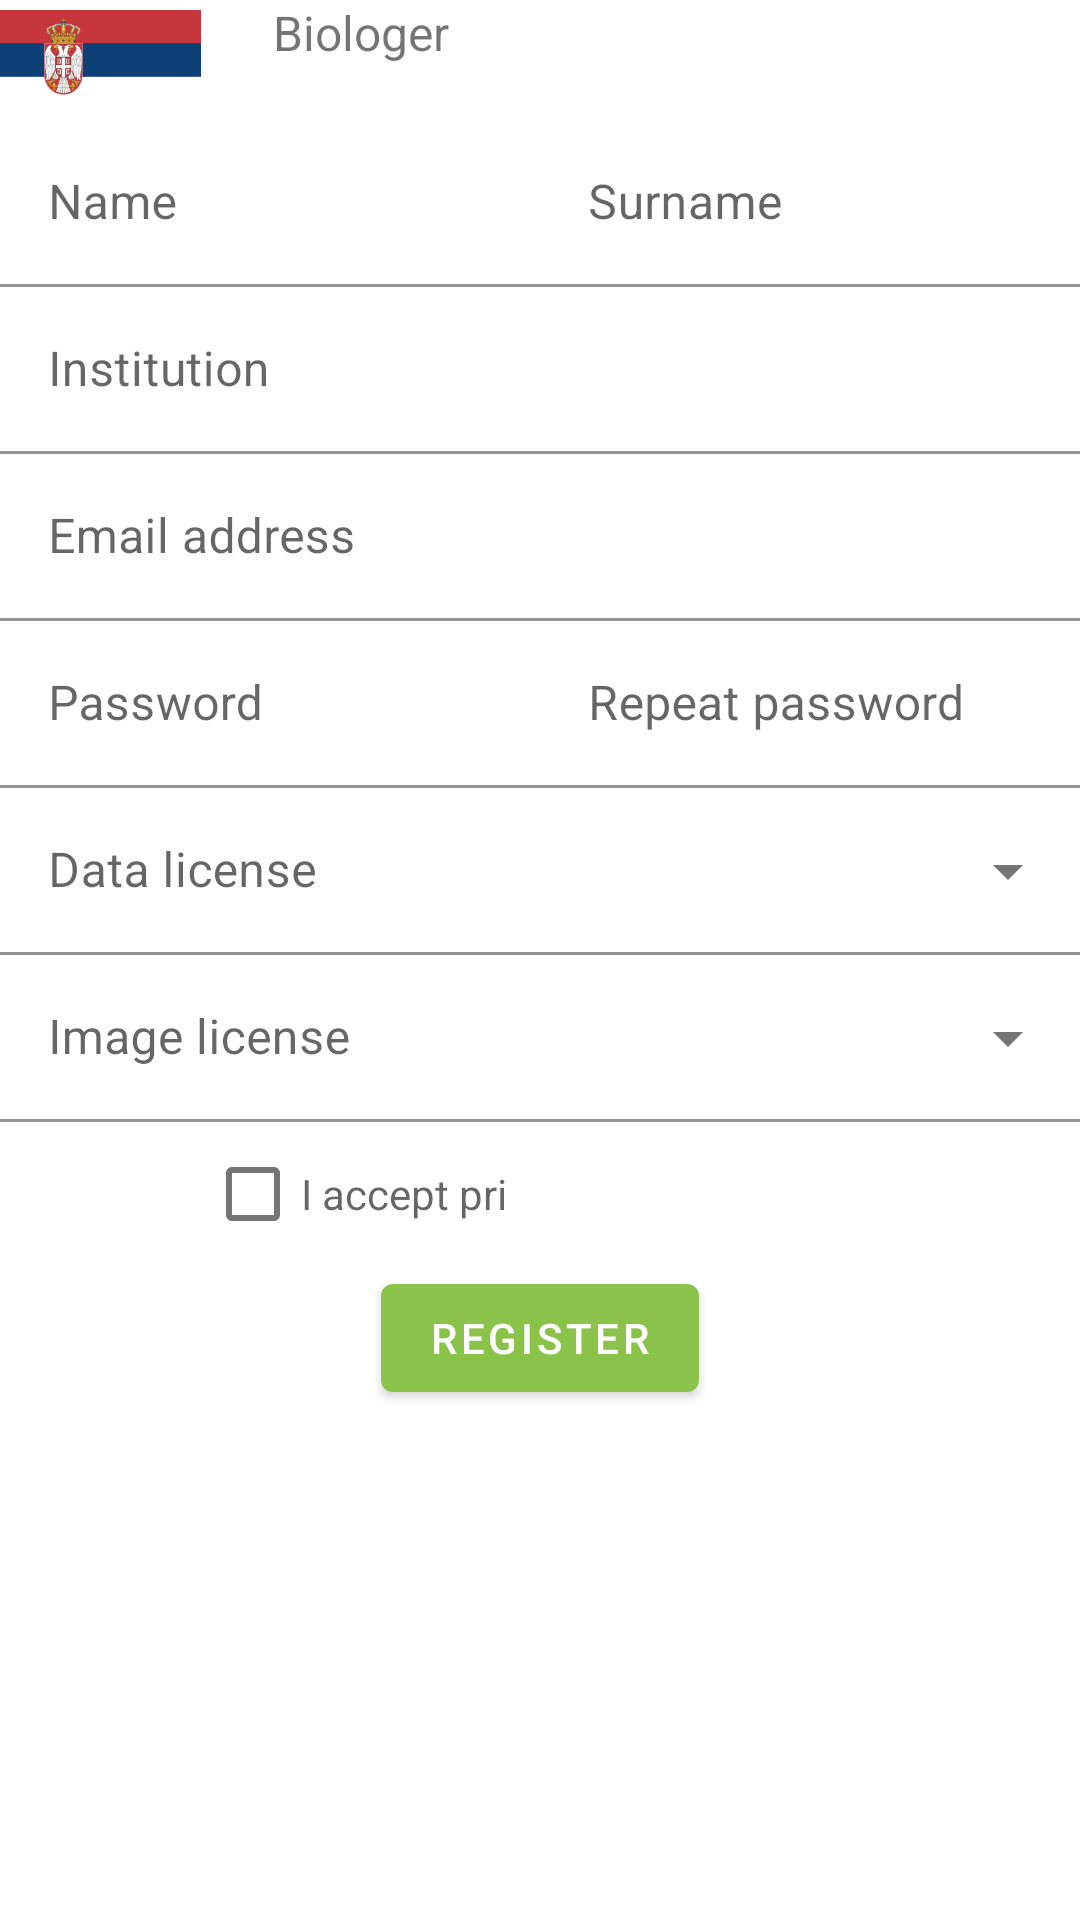

Point at icon controls on the screen. Image size 1080*1920, points as (x=x, y=y).
flag serbia: (x=100, y=52)
